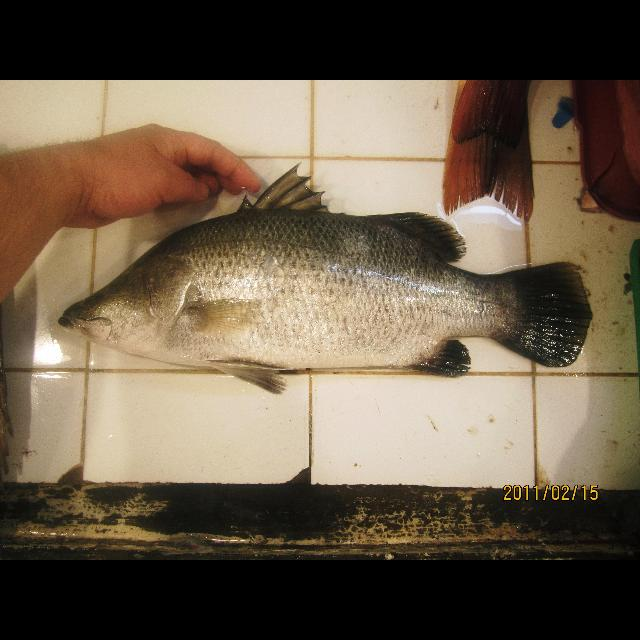Seabass: (56, 162, 596, 394)
